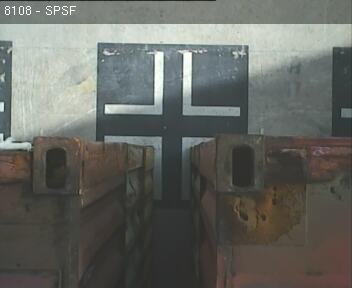groundmarker_1: (104, 51, 240, 118), (103, 136, 211, 199)
